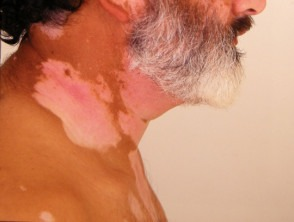Melasma: (64, 6, 171, 73), (13, 179, 63, 222)
